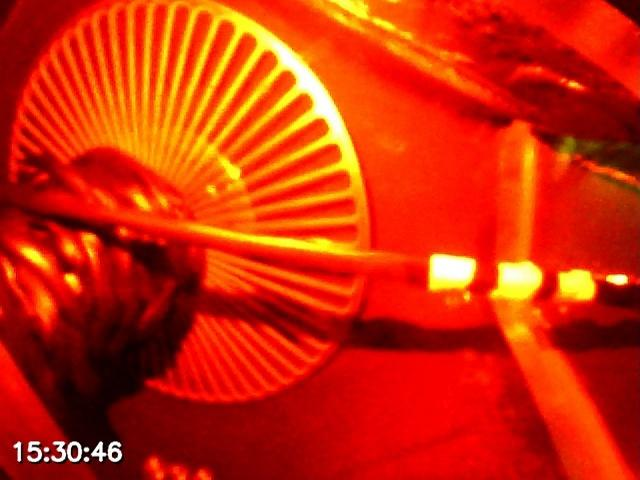white-dots: (427, 253, 595, 301)
